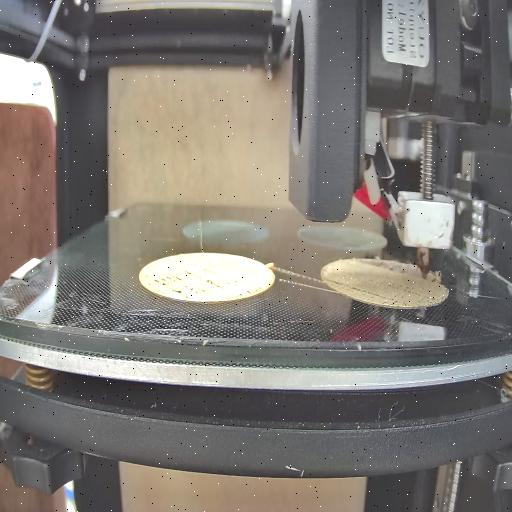under_extrusion: (136, 267, 266, 297), (321, 272, 397, 300), (428, 267, 449, 293)
